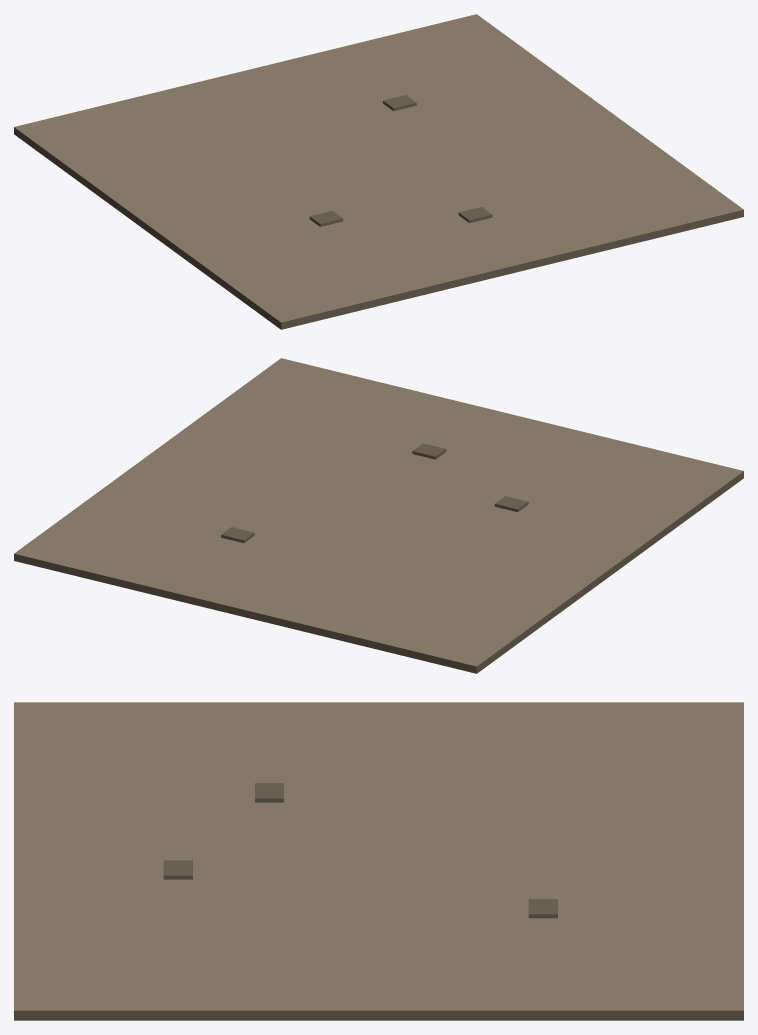
File: road_cross.glb
3 renders of one model, top to bottom at view 1: azimuth 30°, elevation 25°; view 2: azimuth 150°, elevation 25°; view 3: azimuth 270°, elevation 25°, orthographic. The views are drawn at different scales.
Parts seen in each view (by area): view 1: road_cross; view 2: road_cross; view 3: road_cross.
Part boxes in pixels (box(x1,y1,x2,y2)): road_cross: box(14, 14, 743, 329); road_cross: box(14, 358, 743, 673); road_cross: box(14, 702, 743, 1020).
Bounding box in the file's own units: 2 × 0.042 × 2.
